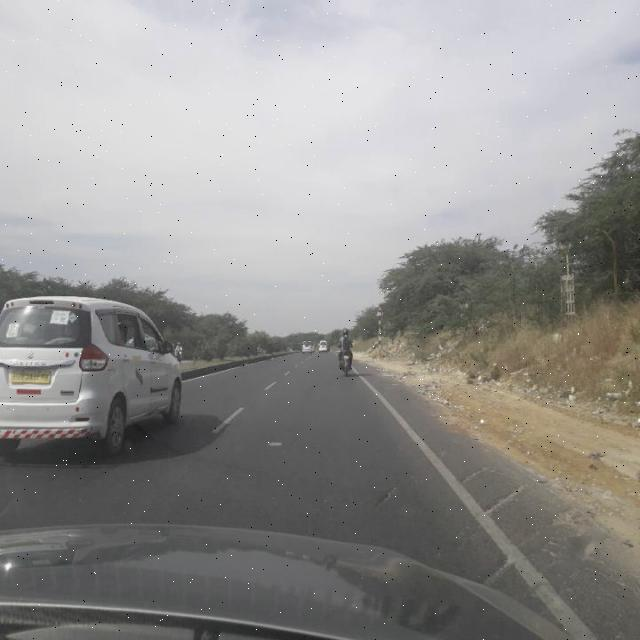D10: (472, 477, 532, 527), (480, 549, 540, 599), (462, 453, 488, 482), (373, 482, 399, 510)
